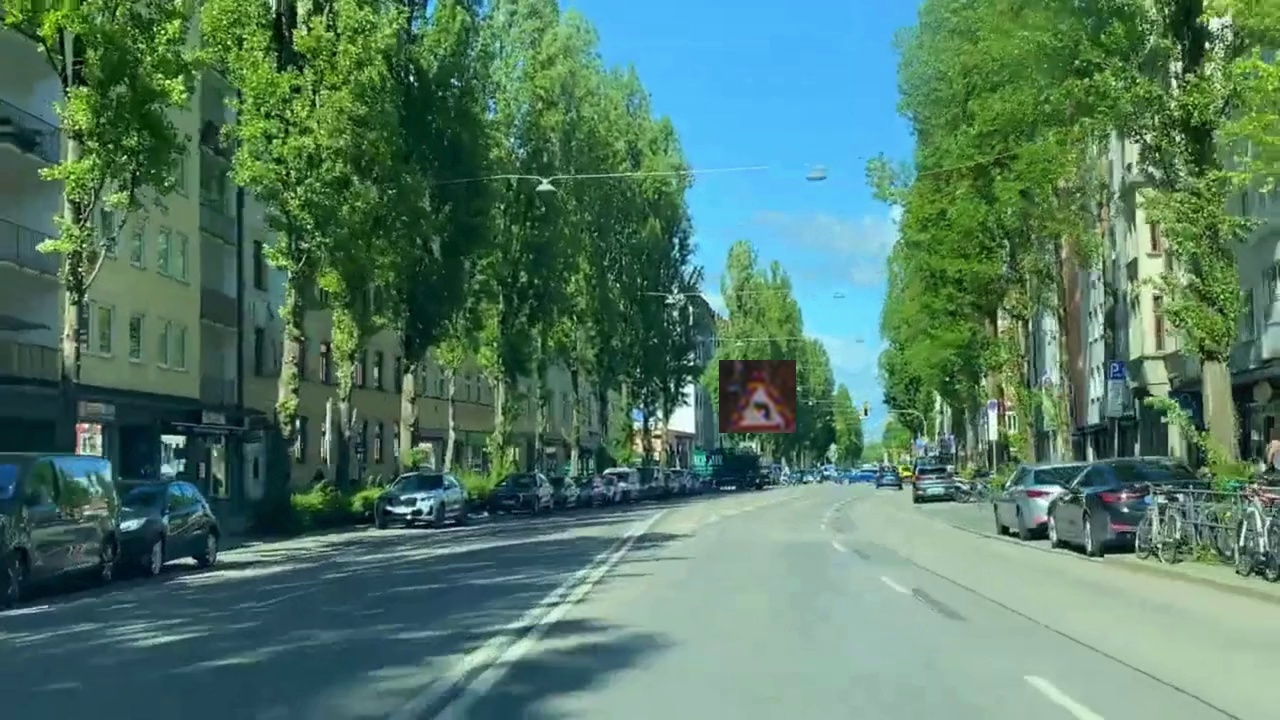Curve left: (719, 360, 796, 433)
